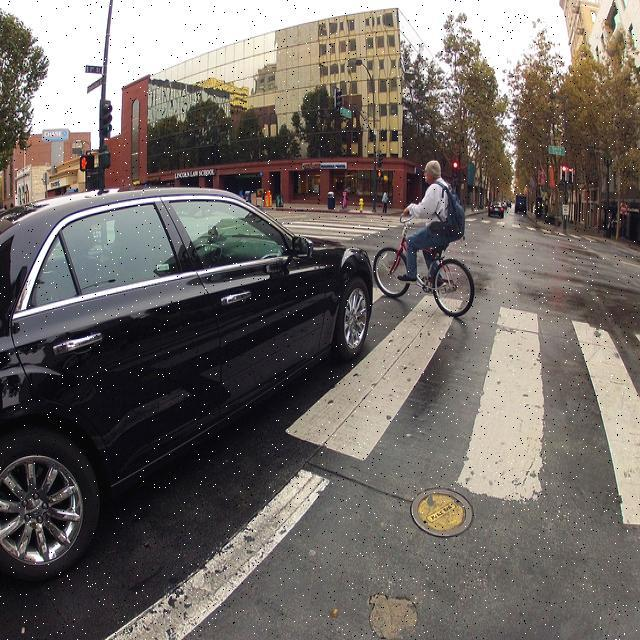fire_hydrant: (358, 198, 363, 210)
